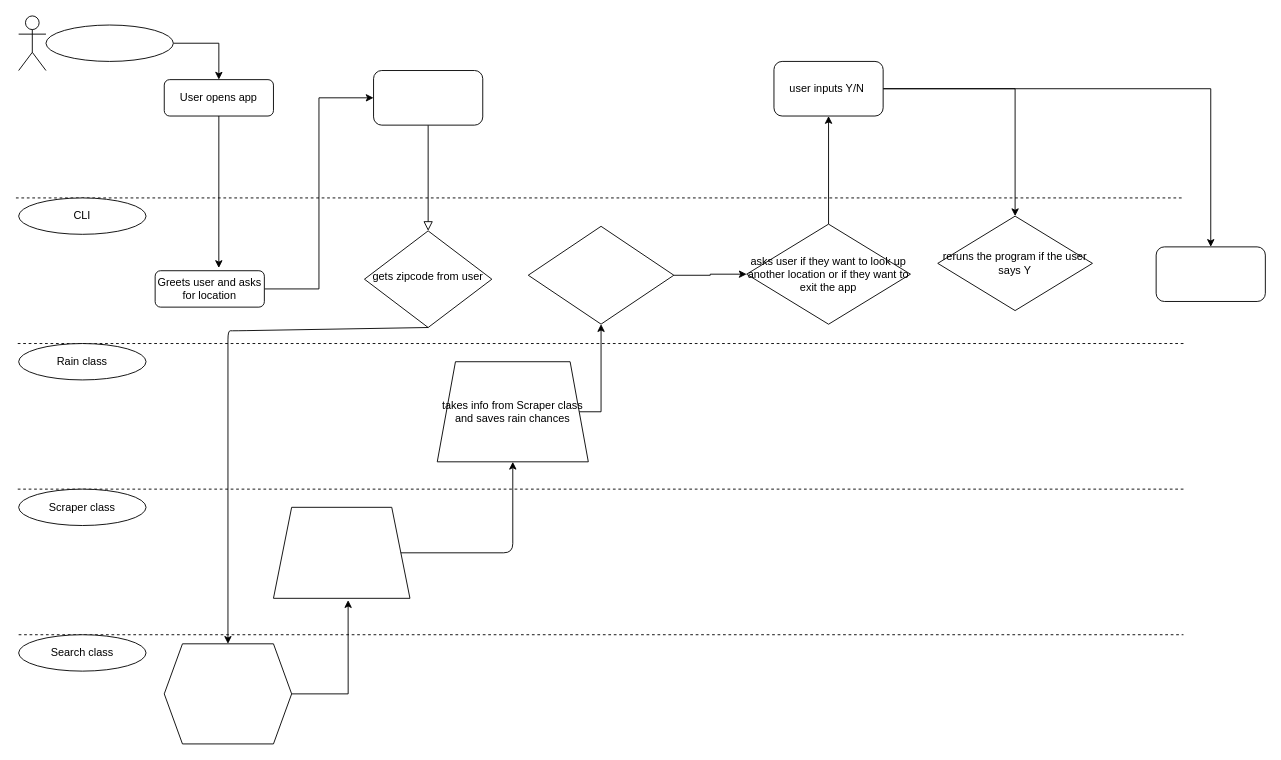
The diagram is 1281 pixels wide and 760 high, and some of its shapes have lost their labels. Each missing label, with the centre of its shape:
"gives user the rain chances for their location" belongs at [600,274].
"scrapes the url from the Search class for info on rain chances" belongs at [341,552].
"takes user's given location and searches for weather on weather.com" belongs at [227,693].
"thanks user and exits app if N" belongs at [1210,273].
"User" belongs at [109,42].
"user inputs location" belongs at [428,97].
